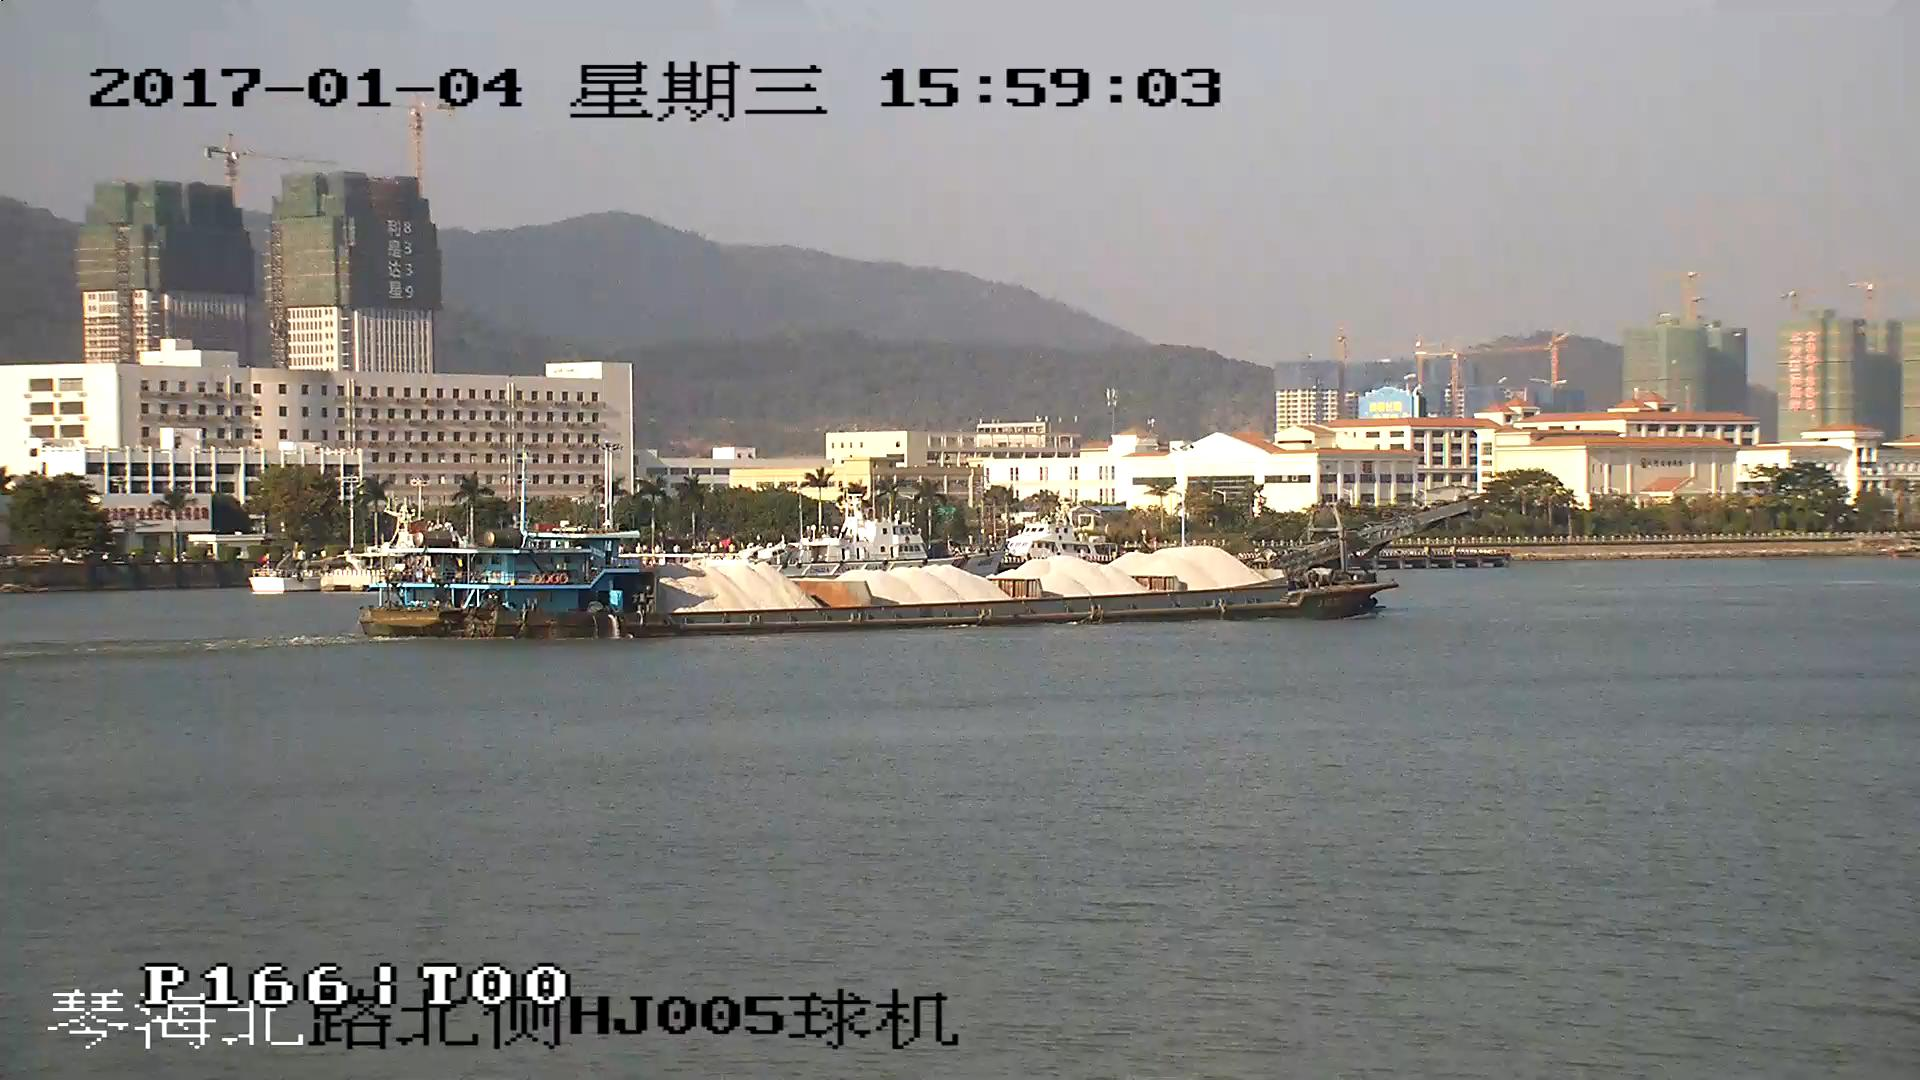ore carrier: (363, 497, 1479, 637)
